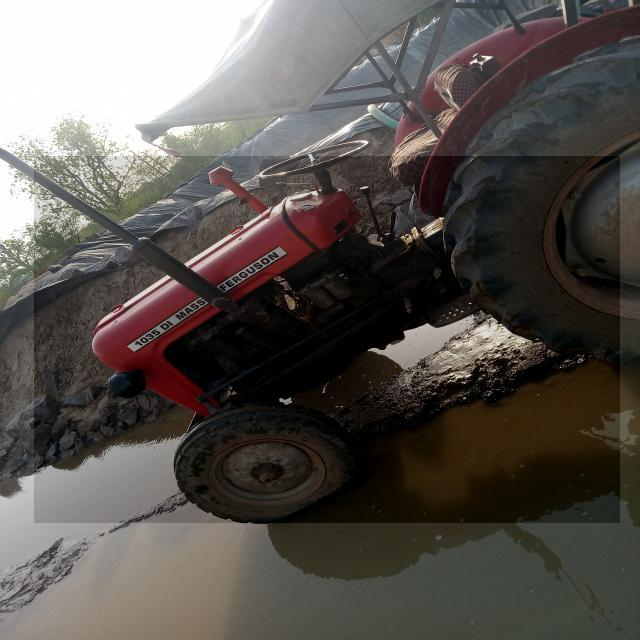Tractot: (34, 156, 620, 523)
